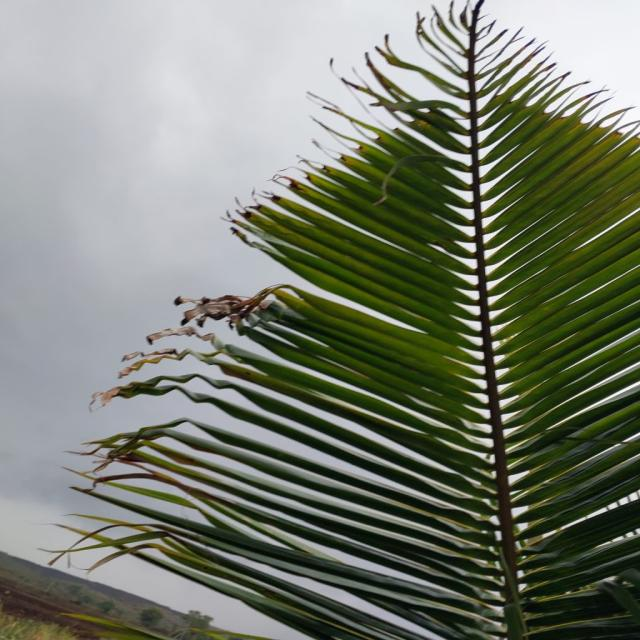leaf rot: (37, 5, 640, 640)
